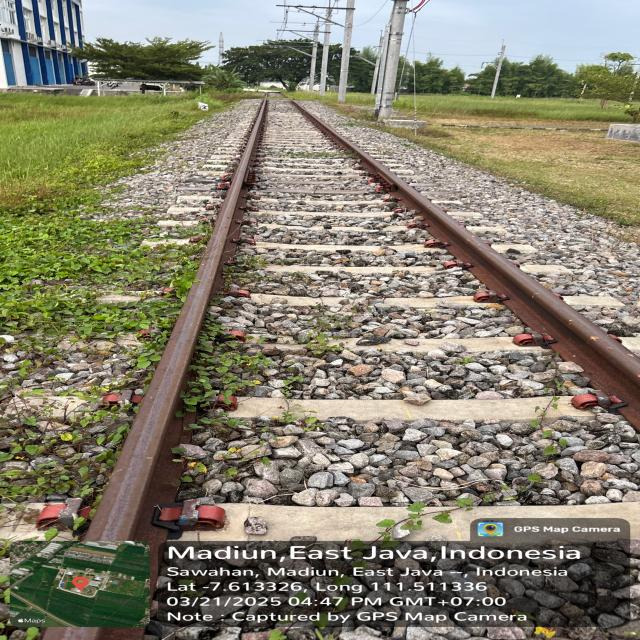rail-detection: (291, 101, 640, 429), (86, 100, 266, 591), (45, 630, 142, 640)
